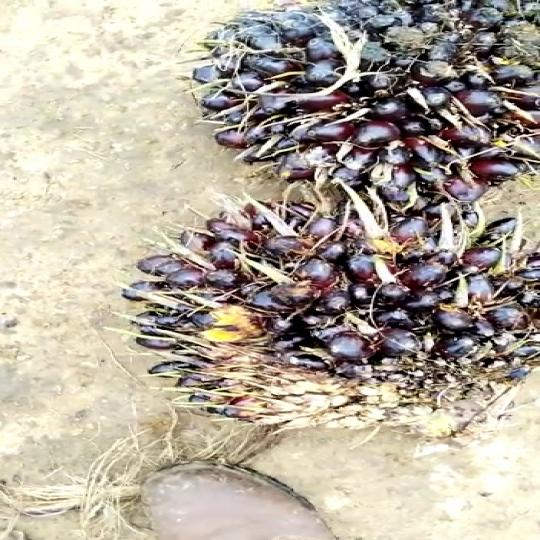mentah: (124, 186, 540, 435), (194, 0, 540, 213)
